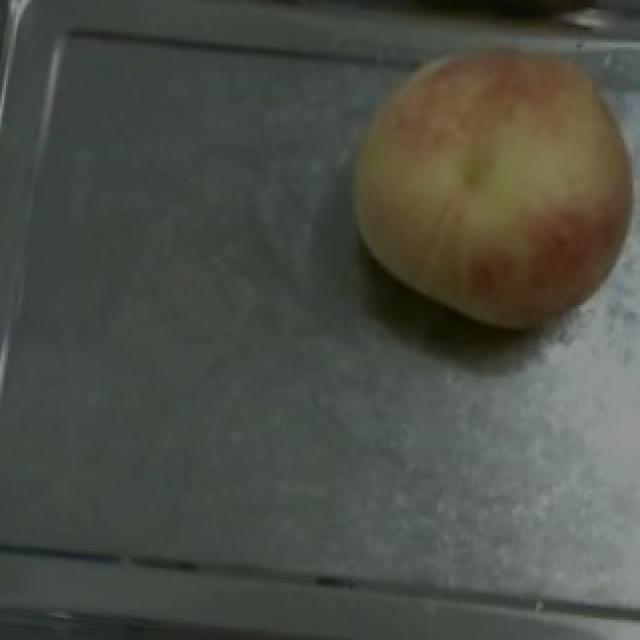Fruit: (324, 25, 640, 347)
